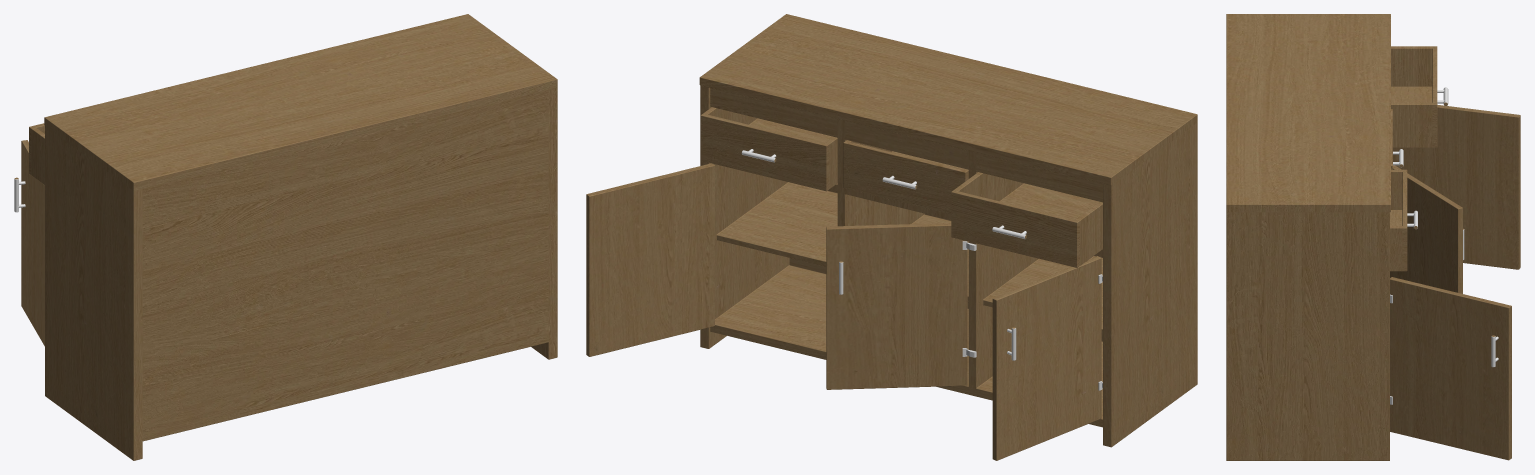
File: CabinetClose-transformed.glb
The picture shows the model from 3 angles, left to right: view 1: azimuth 30°, elevation 25°; view 2: azimuth 150°, elevation 25°; view 3: azimuth 270°, elevation 25°; orthographic projection. The views are drawn at different scales.
Parts seen in each view (by area): view 1: Body; view 2: Body, Body L_hinge; view 3: Body, Body L_hinge.
Part boxes in pixels (<box>): Body: <box>14,14,557,460</box>; Body: <box>586,14,1197,460</box>; Body L_hinge: <box>741,149,1102,390</box>; Body: <box>1226,14,1520,460</box>; Body L_hinge: <box>1390,87,1498,404</box>.
Size of the model in its own units: 1.66 by 0.9204 by 0.9565.
Materials: 2 (1 with a texture image).
